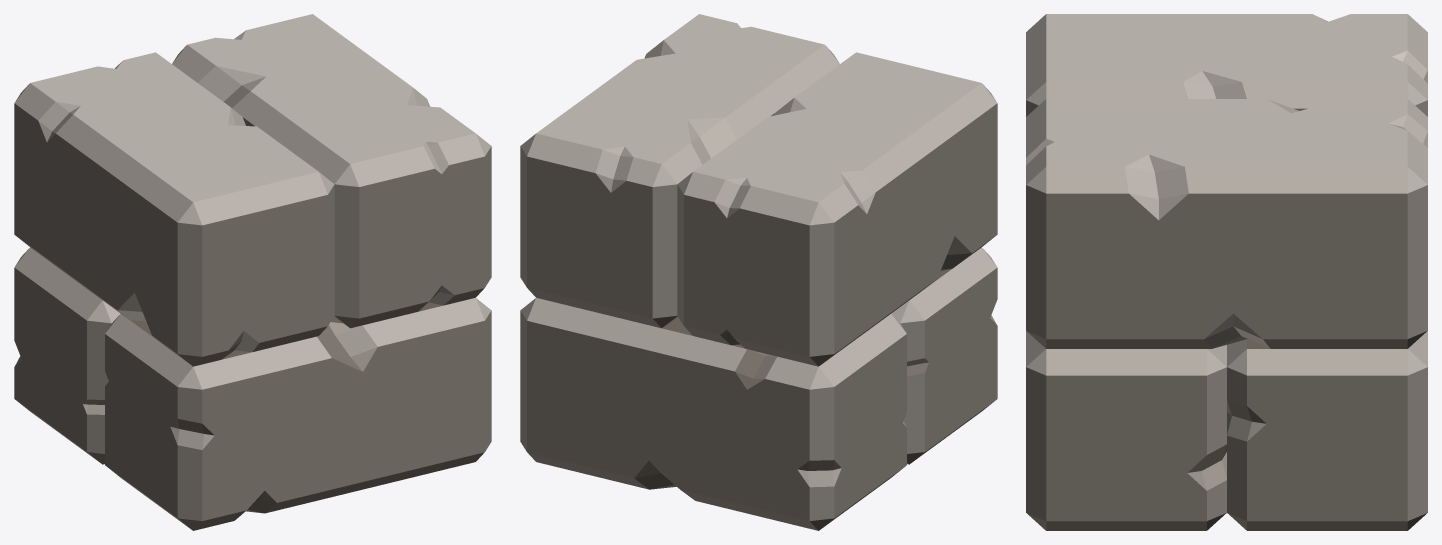
File: m_kub_stone_brickPile.FBX
The picture shows the model from 3 angles, left to right: view 1: azimuth 30°, elevation 25°; view 2: azimuth 150°, elevation 25°; view 3: azimuth 270°, elevation 25°; orthographic projection. The views are drawn at different scales.
Parts seen in each view (by area): view 1: m_kub_stone_brickPile; view 2: m_kub_stone_brickPile; view 3: m_kub_stone_brickPile.
Boxes of the visible parts, x1,y1,x2,y2 form: m_kub_stone_brickPile: (14, 14, 491, 530); m_kub_stone_brickPile: (520, 14, 997, 530); m_kub_stone_brickPile: (1026, 14, 1427, 530).
Size of the model in its own units: 2 by 2 by 2.
